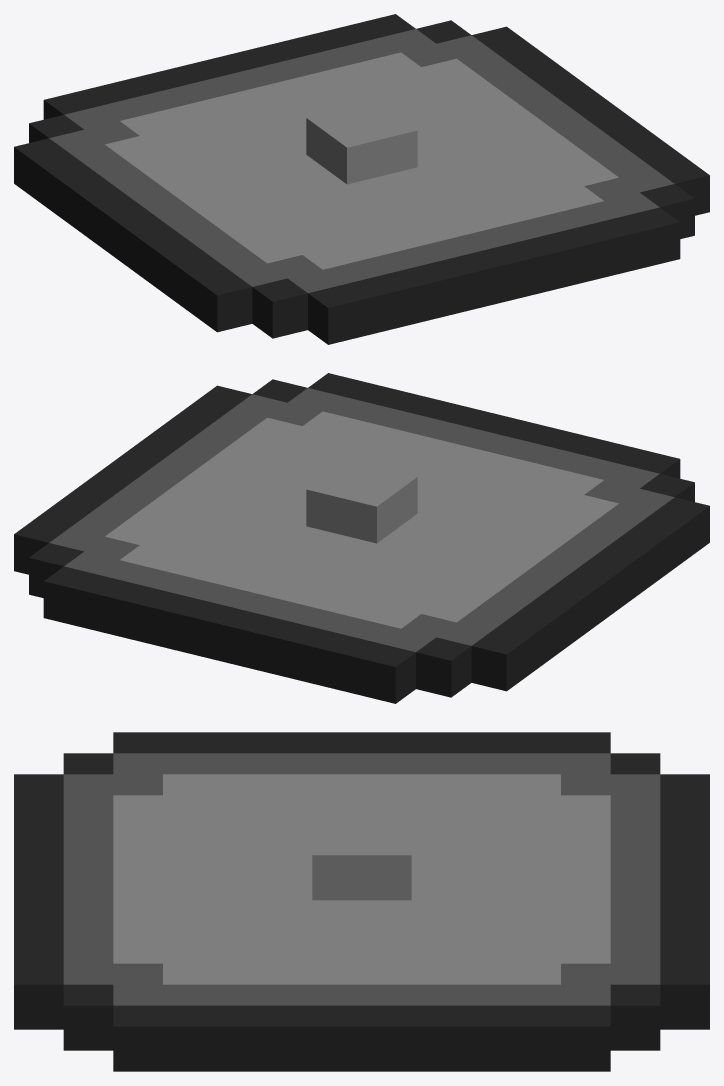
The model's file is trashcan-0.obj.
3 views of the same model, one above another, from view 1: azimuth 30°, elevation 25°; view 2: azimuth 150°, elevation 25°; view 3: azimuth 270°, elevation 25° (orthographic). The views are drawn at different scales.
Bounding box in the file's own units: 1.4 × 0.2 × 1.4.
1 material, 1 textured.
